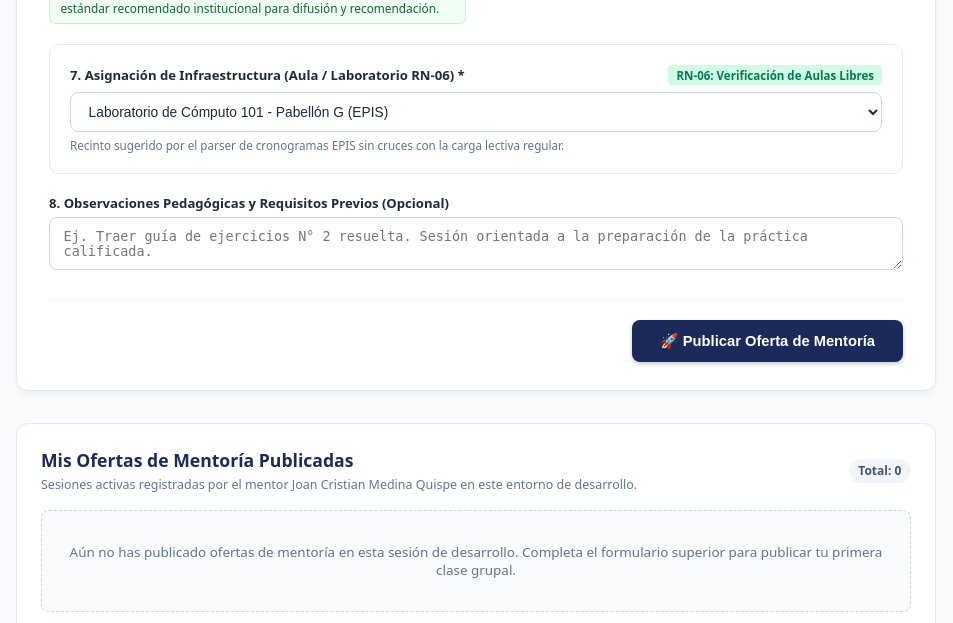
Scenario: OfferPublishView Component (T-14 / RF08 / CUS06) › CUS06-F01 & CUS06-F02: Flujo interactivo completo de publicación y feedback › 7. El botón "Publicar Otra Oferta" restablece el estado para un nuevo registro
(page scrolled)
Publicar oferta inicial
Click the button "🚀 Publicar Oferta de Mentoría". click: (768, 341)
box: [632,320,903,362]
(page scrolled)
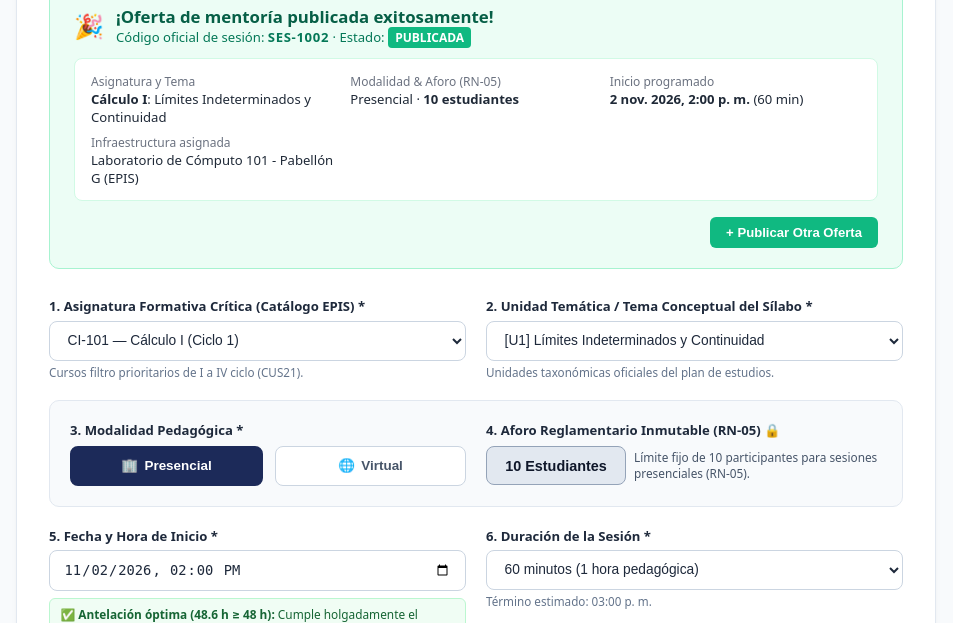
Check: the heading "¡Oferta de mentoría publicada exitosamente!" is shown, box [116,5,494,28]
Clic en "Publicar Otra Oferta"
Click the button "+ Publicar Otra Oferta". click: (794, 233)
box: [710,217,878,248]
(page scrolled)
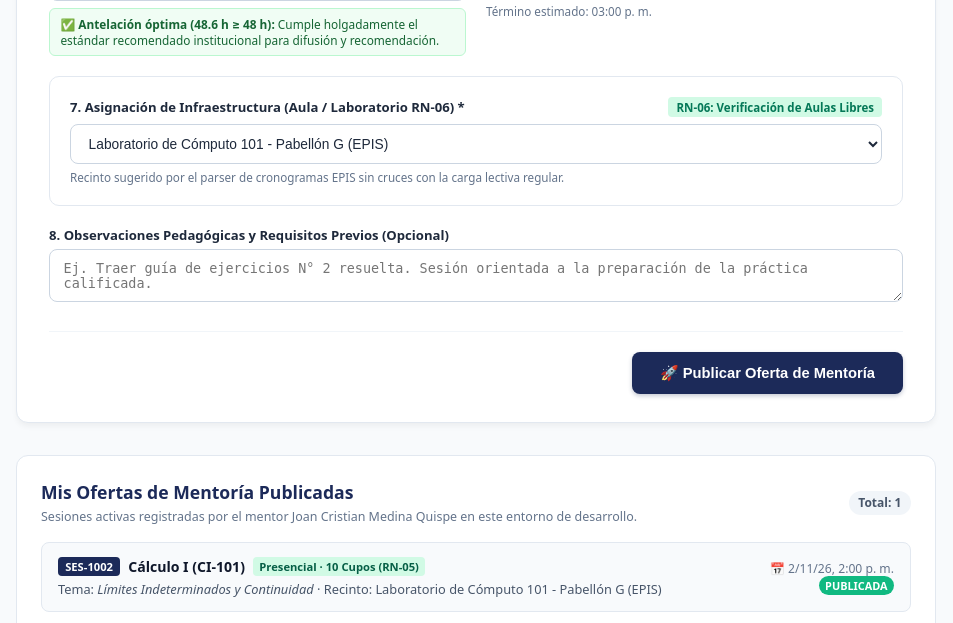
Check: the button "🚀 Publicar Oferta de Mentoría" is shown, box [632,352,903,394]
Check: the heading "¡Oferta de mentoría publicada exitosamente!" is gone
